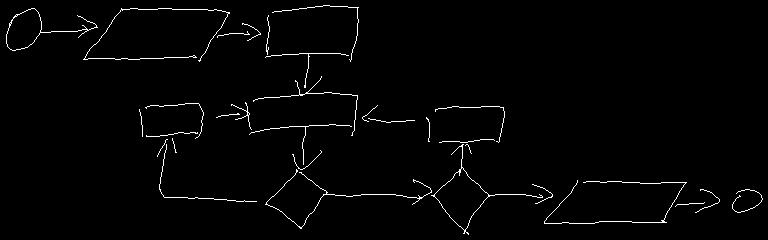arrow: (157, 138, 256, 201), (323, 179, 431, 204), (41, 15, 97, 37), (292, 127, 321, 169), (489, 184, 552, 203), (295, 54, 321, 95), (675, 189, 719, 212), (362, 105, 414, 122), (217, 23, 260, 40), (451, 144, 471, 175), (216, 104, 249, 119)
connection: (6, 8, 41, 50), (732, 189, 762, 212)
data: (83, 8, 229, 61), (544, 180, 686, 223)
decision: (431, 167, 489, 234), (265, 169, 327, 228)
process: (265, 5, 358, 61), (245, 92, 357, 135), (426, 106, 504, 142), (139, 103, 203, 138)
